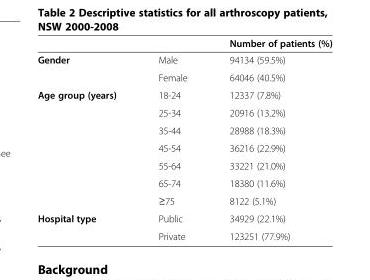table: (36, 37, 331, 241)
table column: (207, 37, 331, 241), (36, 37, 136, 241), (136, 37, 207, 241)
table column header: (36, 37, 331, 51)
table row: (36, 85, 331, 103), (36, 103, 331, 121), (36, 138, 331, 156), (36, 156, 331, 174), (36, 191, 331, 209), (36, 209, 331, 227), (36, 51, 331, 68), (36, 68, 331, 85), (36, 121, 331, 138), (36, 174, 331, 191), (36, 37, 331, 51), (36, 227, 331, 241)
table spanning cell: (36, 85, 136, 209), (36, 51, 136, 85), (36, 209, 136, 241)
